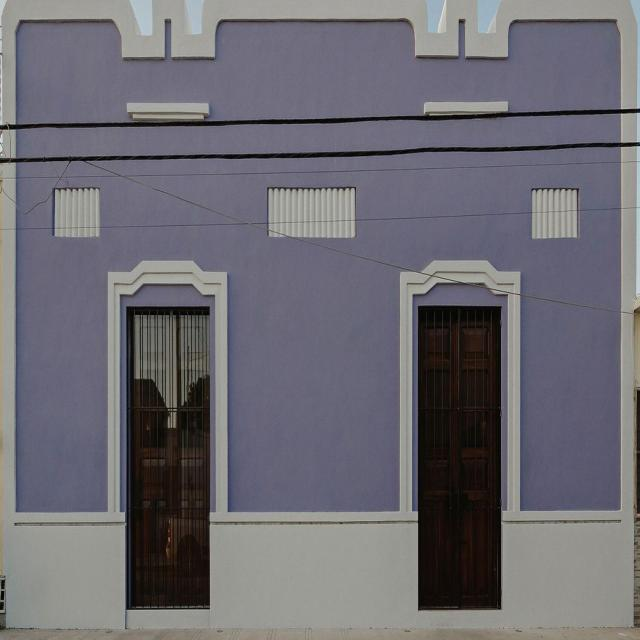door: (419, 313, 502, 612), (131, 306, 212, 609)
